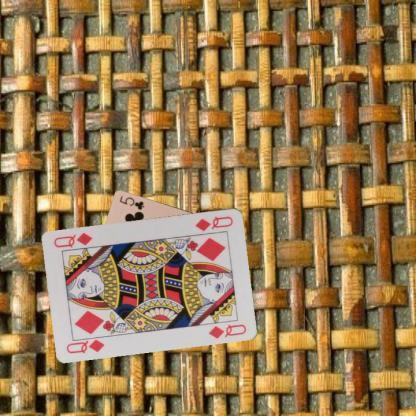Qd: (64, 332, 108, 355), (192, 213, 235, 232)
